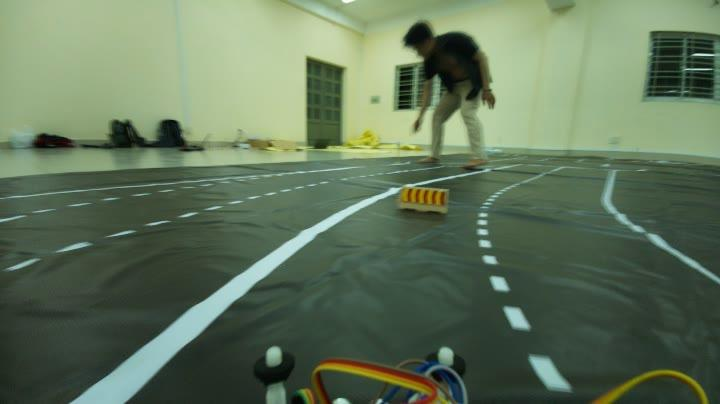roadblock: (395, 180, 459, 221)
